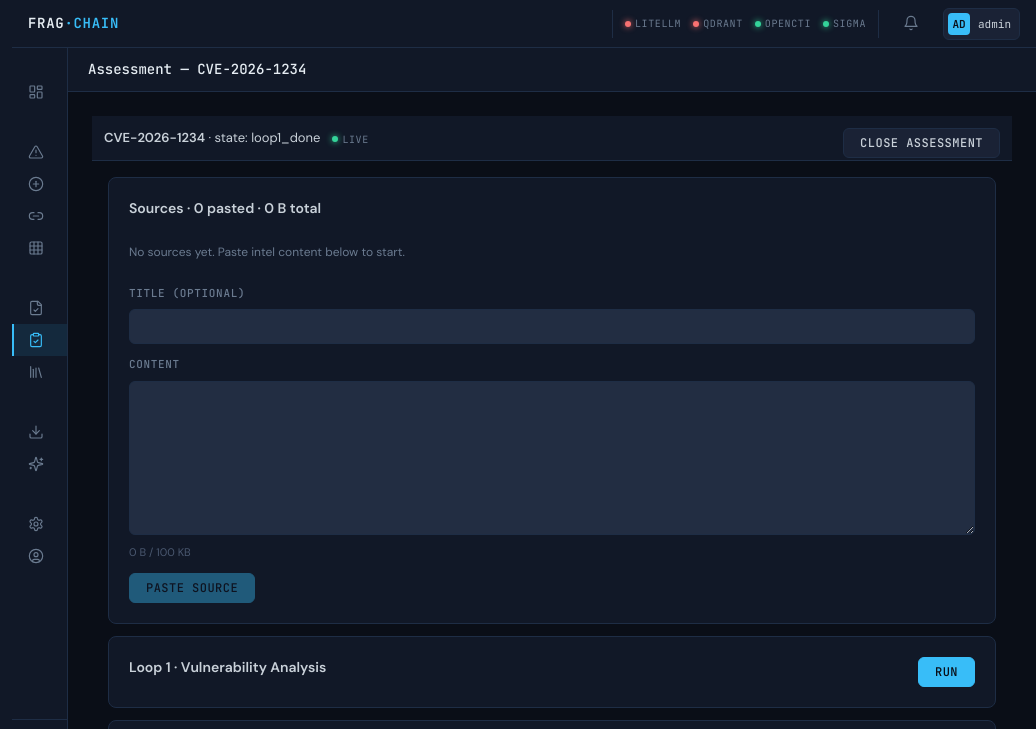
Scenario: AssessmentWorkspace › toasts and stays on the workspace when closeAssessment rejects
Click the button "Close assessment".
click(922, 143)  # box x1=843 y1=128 x2=1000 y2=158
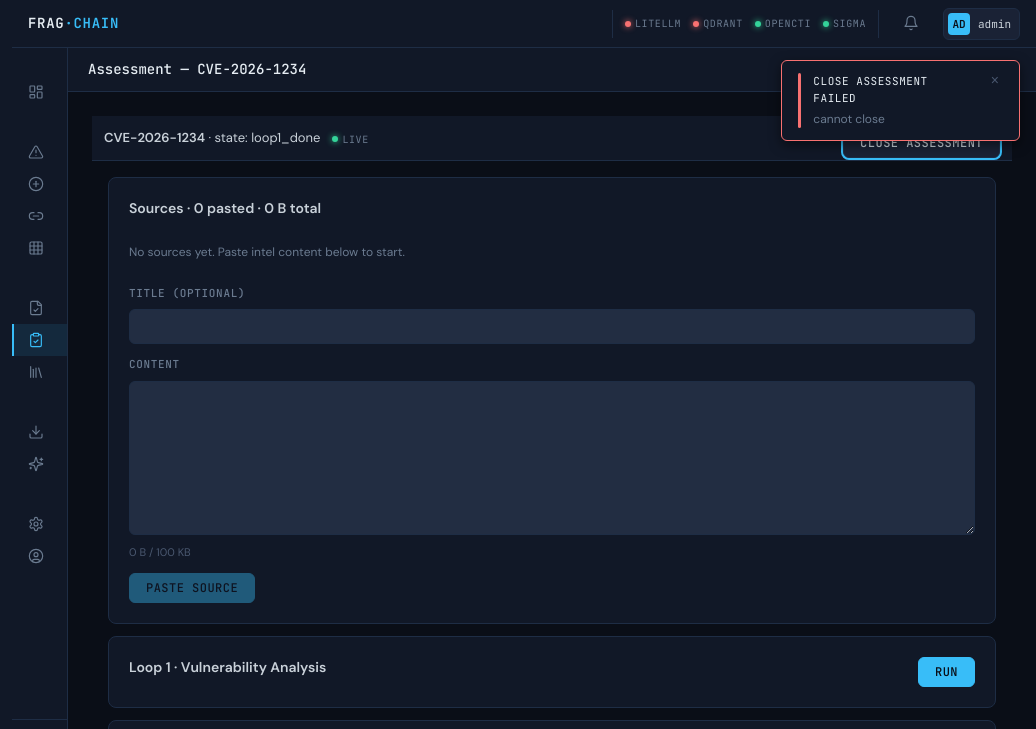
Expected: the element labelled "Sources" is shown, x1=108 y1=176 x2=996 y2=624
Result: the text "cannot close" is shown at x1=813 y1=111 x2=885 y2=127
